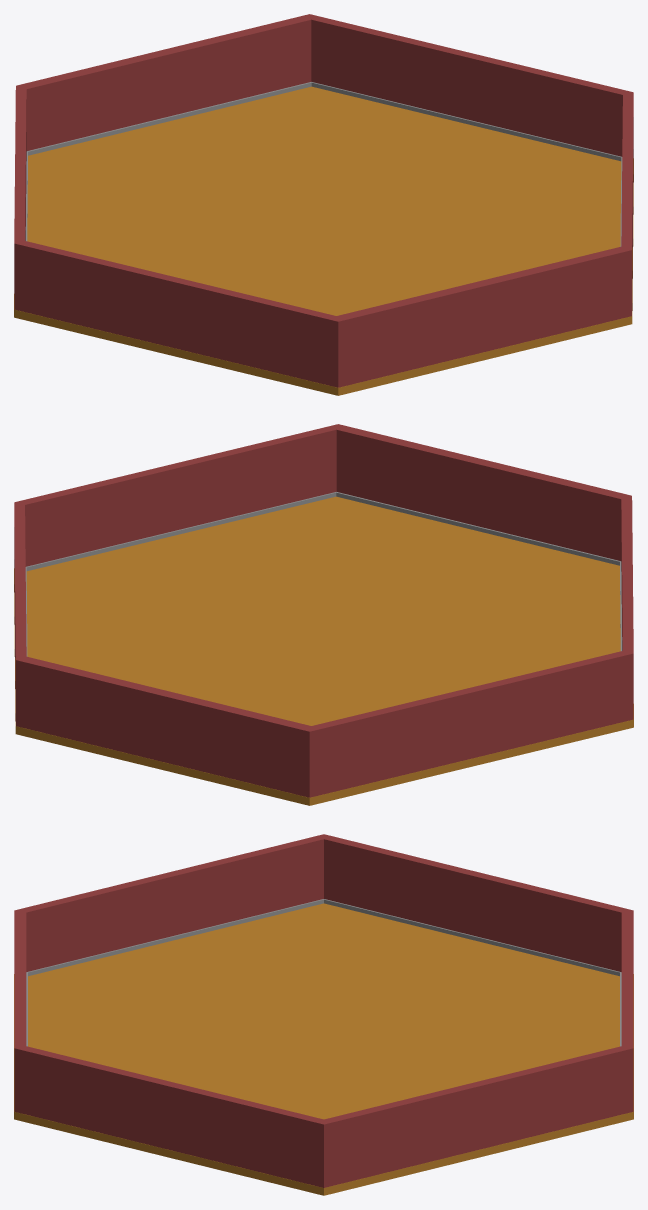
Rendered from weiqiang3.fbx.
3 renders of one model, top to bottom at view 1: azimuth 30°, elevation 25°; view 2: azimuth 150°, elevation 25°; view 3: azimuth 270°, elevation 25°, orthographic. The views are drawn at different scales.
Parts seen in each view (by area): view 1: 图形003, Environment_03_walls_wall_24_0; view 2: 图形003, Environment_03_walls_wall_24_0; view 3: 图形003, Environment_03_walls_wall_24_0.
Part boxes in pixels (x1,y1,x2,y2): 图形003: [14, 86, 633, 395]; Environment_03_walls_wall_24_0: [14, 14, 633, 387]; 图形003: [14, 496, 633, 805]; Environment_03_walls_wall_24_0: [14, 424, 633, 797]; 图形003: [14, 903, 633, 1195]; Environment_03_walls_wall_24_0: [14, 834, 633, 1187].
Size of the model in its own units: 3416 by 390 by 3080.
